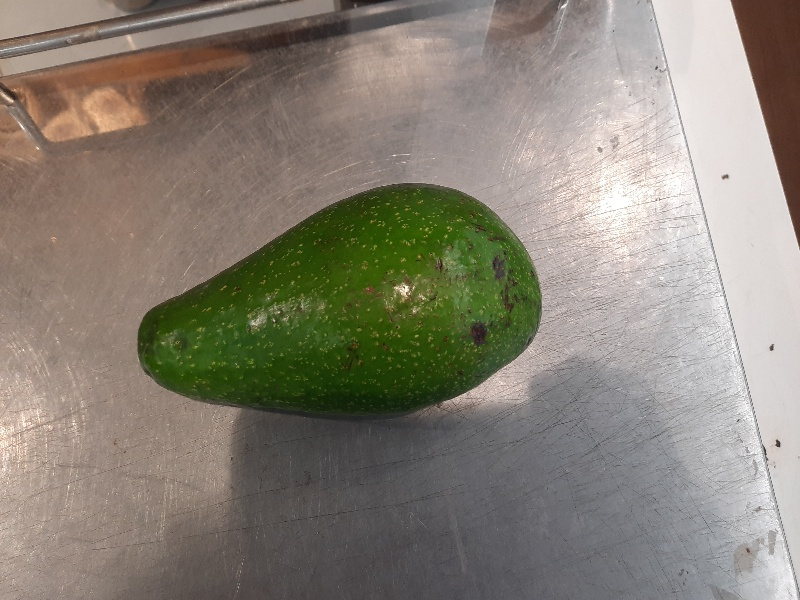fruit: (130, 180, 547, 426)
